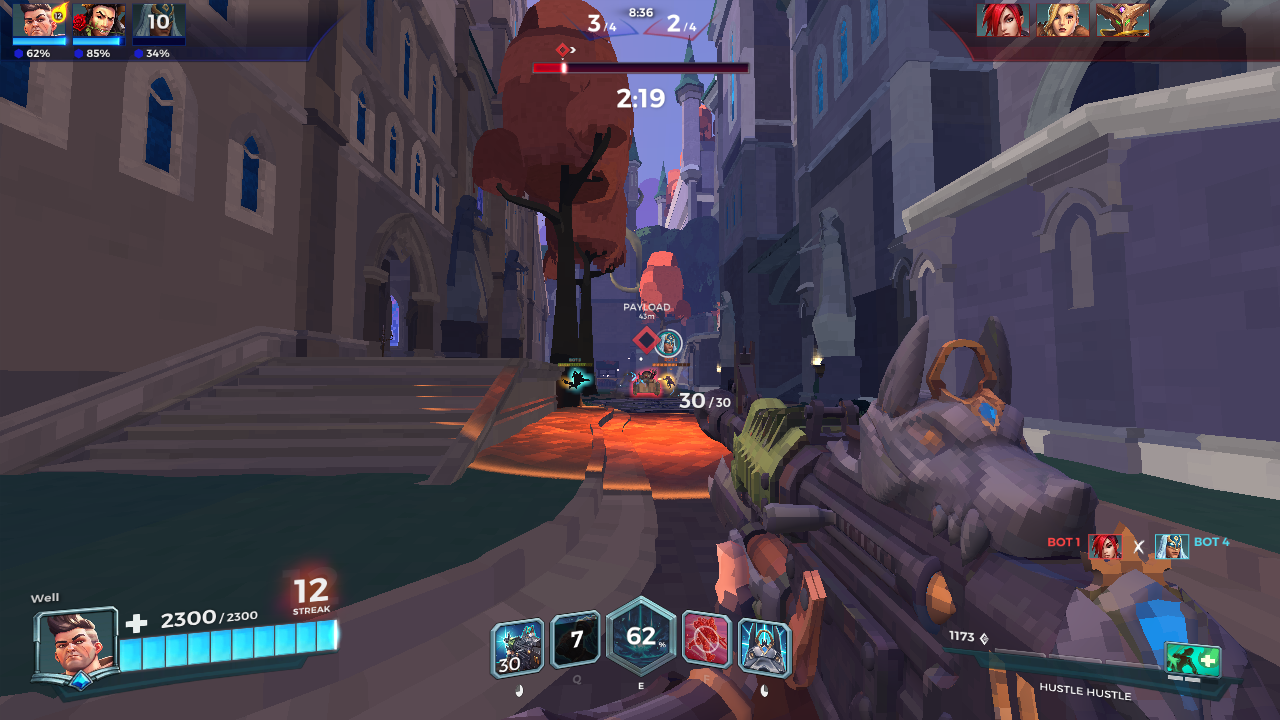model: (664, 373, 674, 385)
